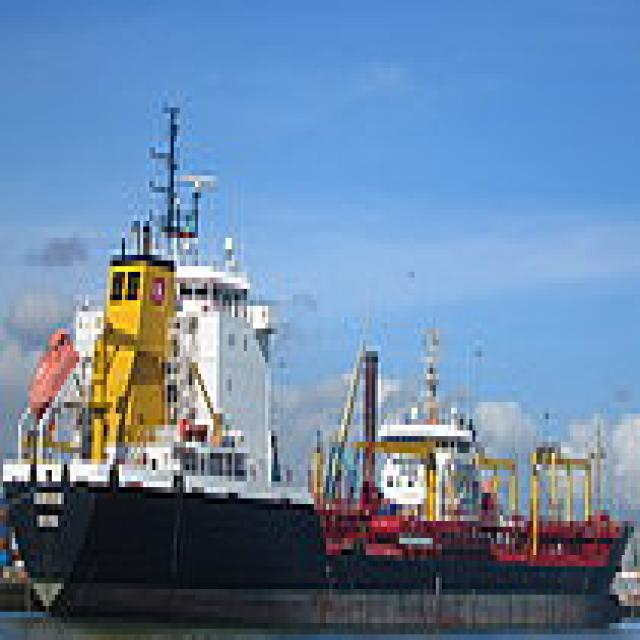Tanker: (0, 85, 329, 617), (305, 272, 634, 629)
